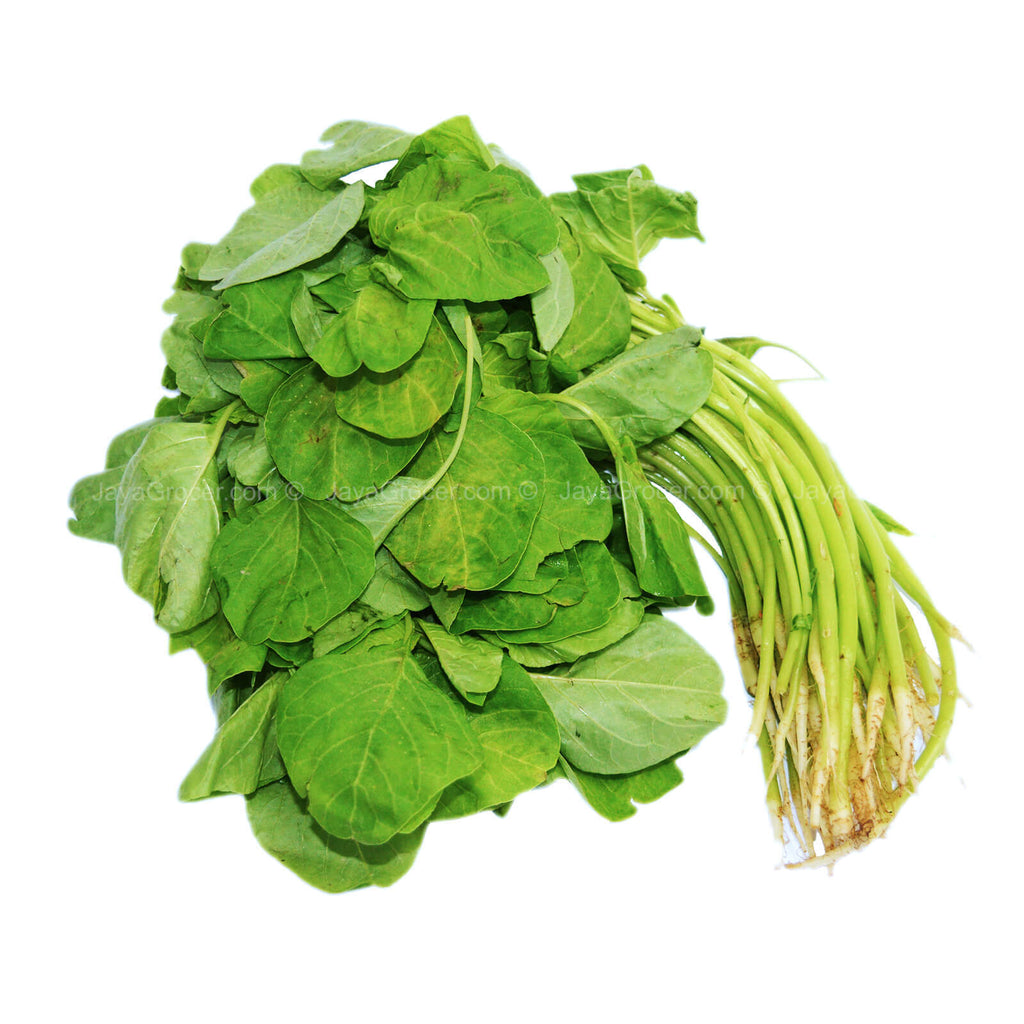Bayam: (103, 105, 951, 934)
